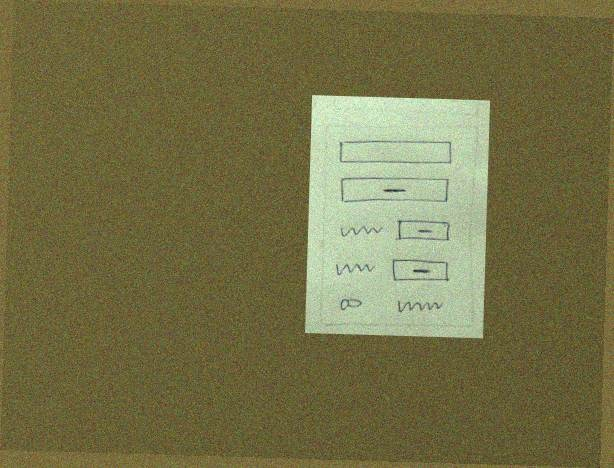button: (336, 173, 453, 207), (393, 216, 453, 246), (391, 256, 452, 285)
switch: (336, 295, 365, 312)
text: (331, 260, 380, 278), (397, 297, 446, 315), (336, 223, 385, 240)
text_input: (337, 138, 455, 168)
